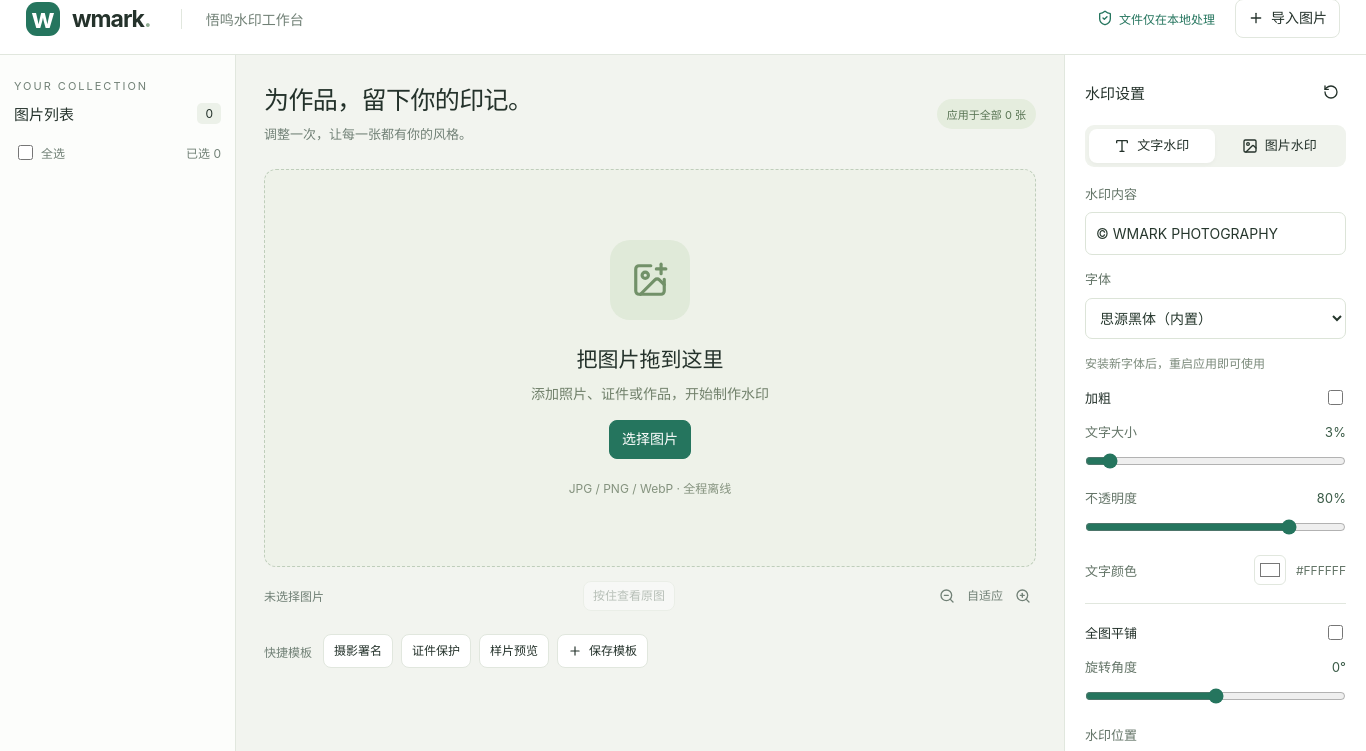
Test: R06/R07 exports through options dialog and displays completion
Step 1. Click the button "选择图片" → (650, 439), box [609, 420, 691, 459]
(page scrolled)
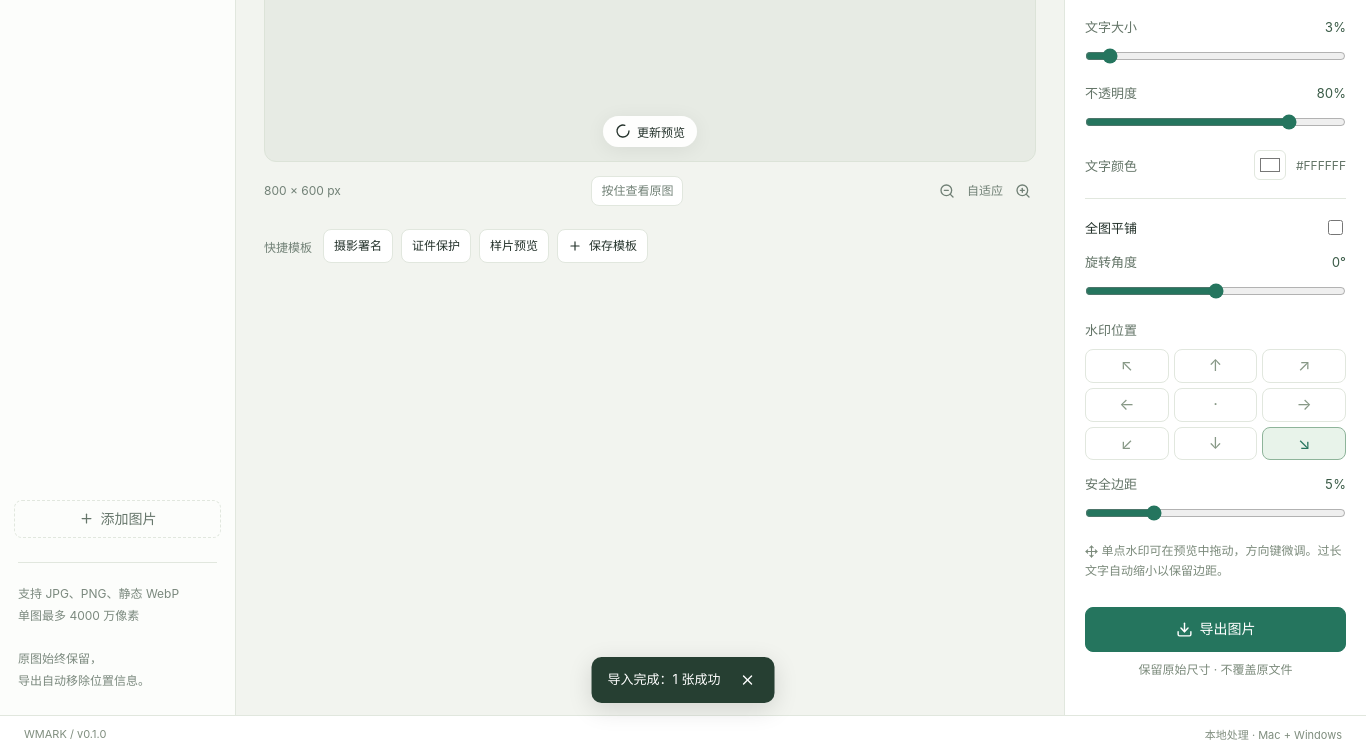
Expected: the text "800 × 600 px" is shown, [264, 183, 341, 198]
Step 2. Click the button "导出图片" → (1216, 629), box [1085, 607, 1346, 652]
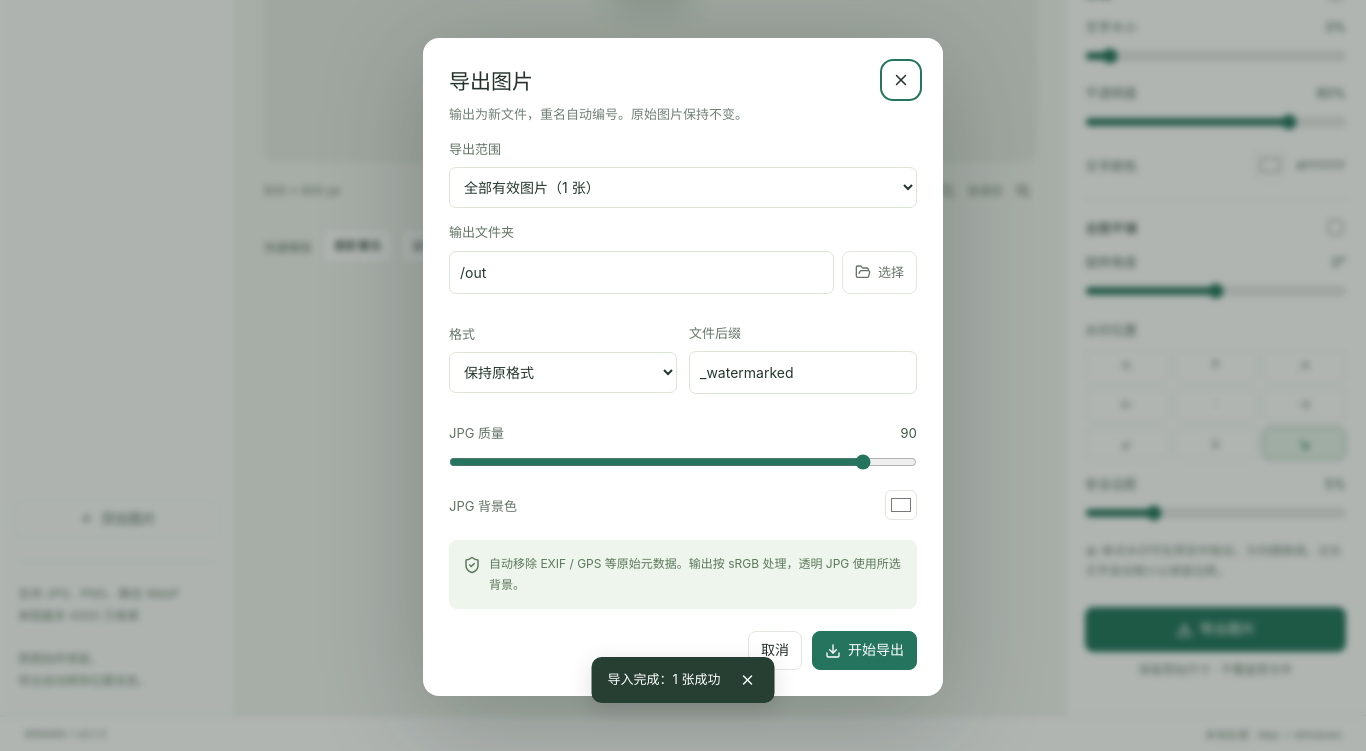
Expected: the dialog is shown, [423, 38, 943, 696]
Expected: the button "开始导出" is enabled
Step 3. Click the button "开始导出" → (864, 651), box [812, 631, 917, 670]
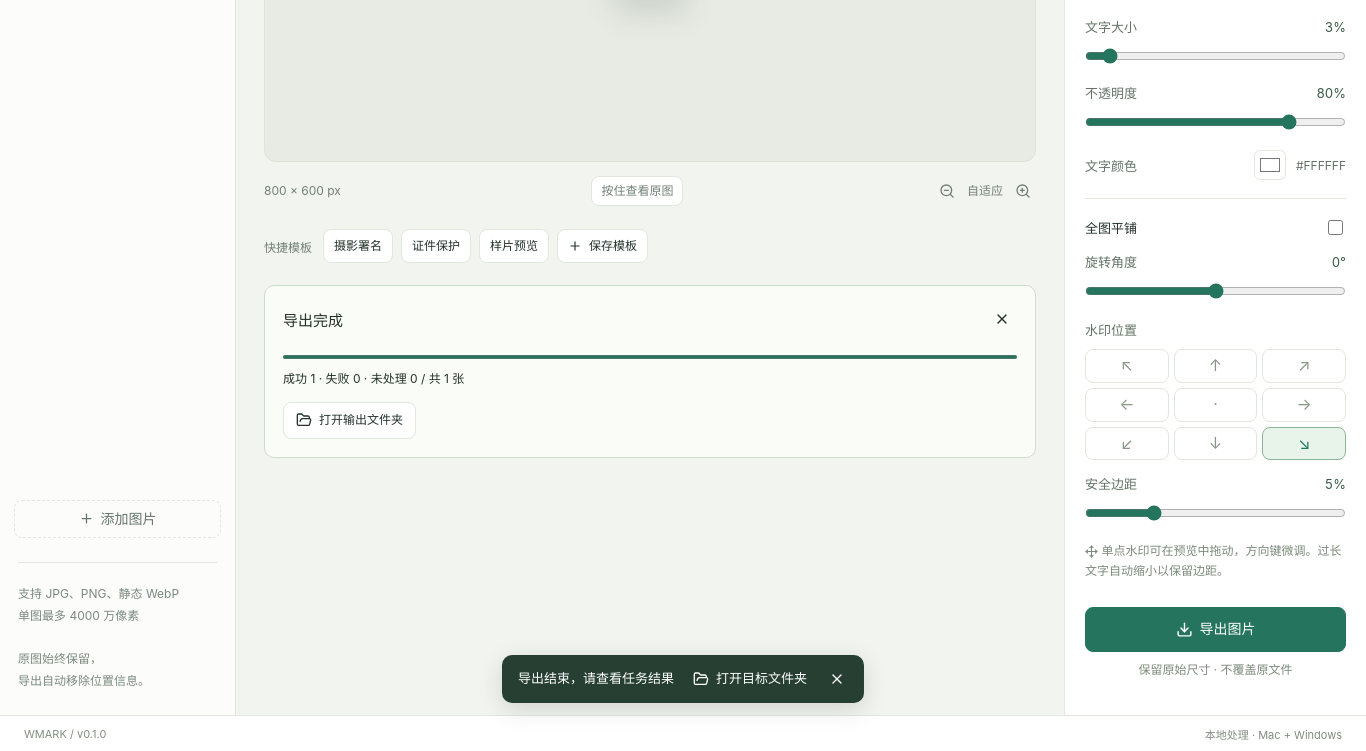
Expected: the heading "导出完成" is shown, [283, 309, 343, 330]
